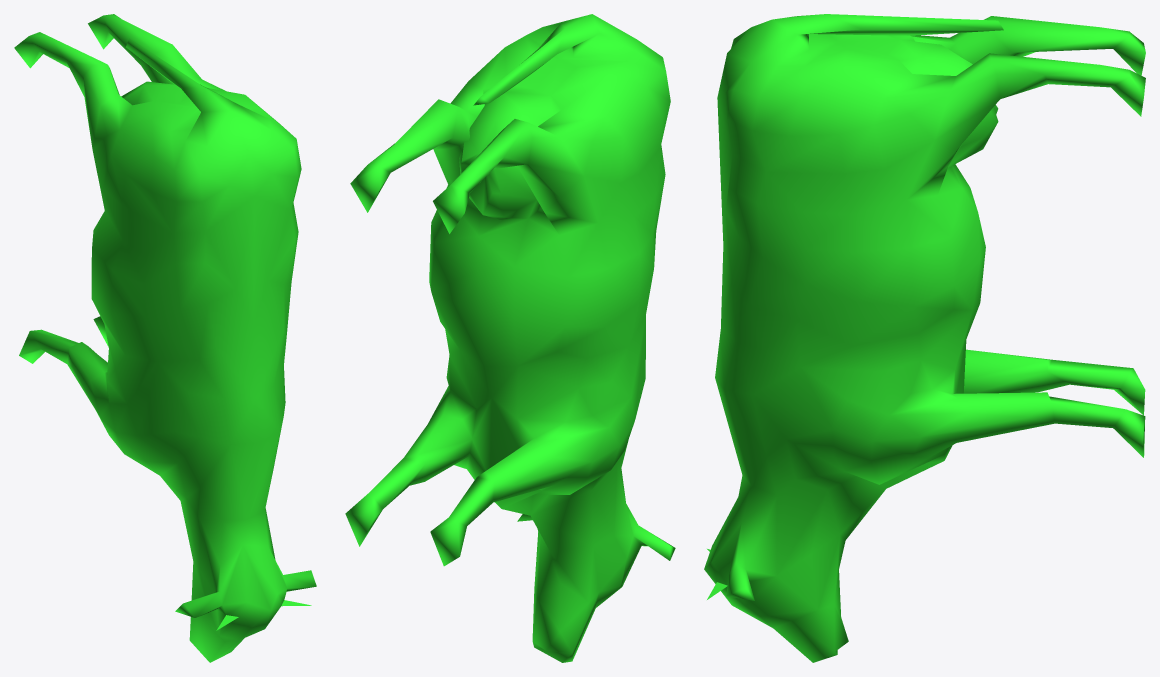
File: Cow.obj
The picture shows the model from 3 angles, left to right: view 1: azimuth 30°, elevation 25°; view 2: azimuth 150°, elevation 25°; view 3: azimuth 270°, elevation 25°; orthographic projection. The views are drawn at different scales.
Parts seen in each view (by area): view 1: Cow; view 2: Cow; view 3: Cow.
Part boxes in pixels (<box>): Cow: <box>14,14,316,662</box>; Cow: <box>345,14,675,662</box>; Cow: <box>704,14,1145,662</box>.
Size of the model in its own units: 0.3018 by 1 by 0.6229.
